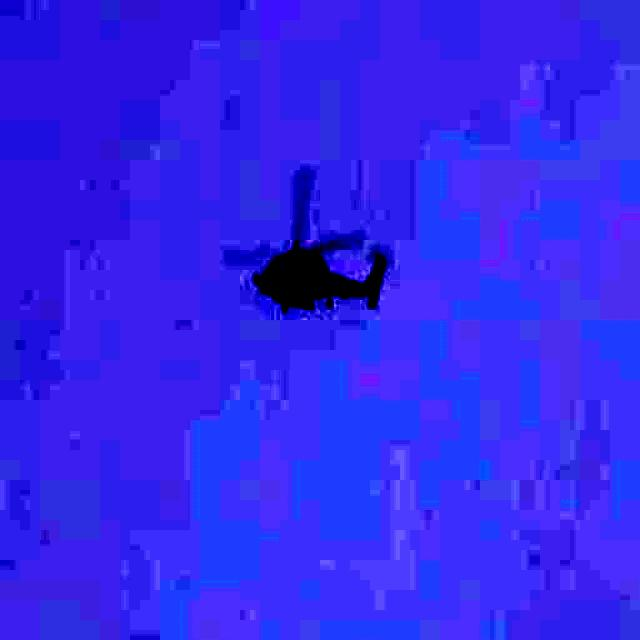drone: (230, 176, 400, 360)
